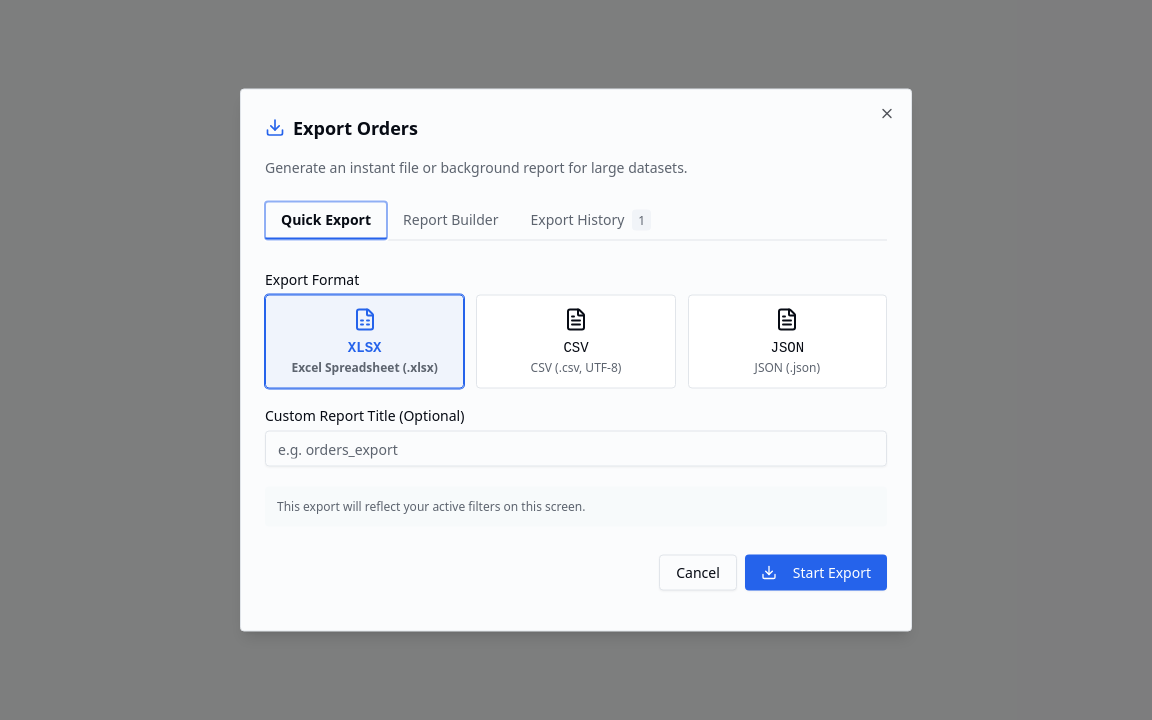
Test: Export UI components › displays history jobs list with status badge and download button
// Switch to History tab
Click the button "Export History1" at (591, 220), box [514, 202, 667, 240]
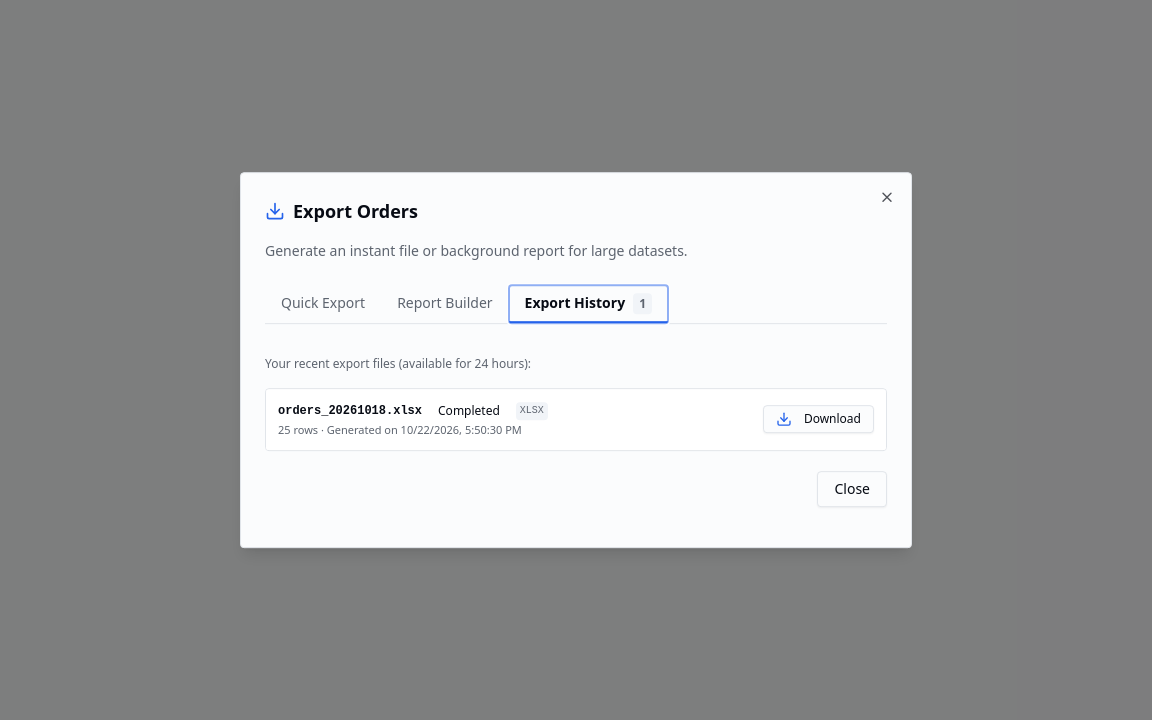
Now the text "orders_20261018.xlsx" is shown, box [278, 403, 422, 419]
Now the text "25 rows · Generated on 10/22/2026, 5:50:30 PM" is shown, box [278, 423, 548, 438]
Now the text "Completed" is shown, box [438, 402, 500, 419]
